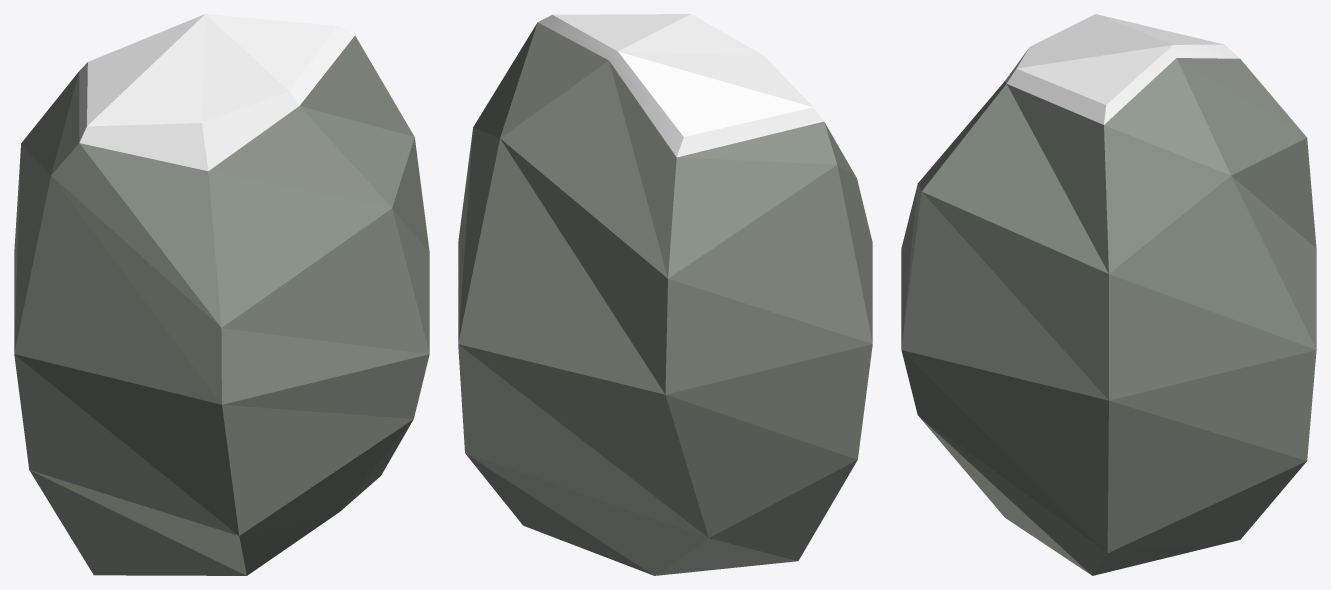
File: Rock_Dark_Snow_1.fbx
3 views of the same model, side by side, from view 1: azimuth 30°, elevation 25°; view 2: azimuth 150°, elevation 25°; view 3: azimuth 270°, elevation 25° (orthographic).
Visible parts, largest first — view 1: Rock_Dark_Snow_1; view 2: Rock_Dark_Snow_1; view 3: Rock_Dark_Snow_1.
Part boxes in pixels (x1,y1,x2,y2): Rock_Dark_Snow_1: [14, 14, 429, 575]; Rock_Dark_Snow_1: [458, 14, 872, 575]; Rock_Dark_Snow_1: [901, 14, 1316, 575].
Bounding box in the file's own units: 2 × 2.37 × 1.73.
